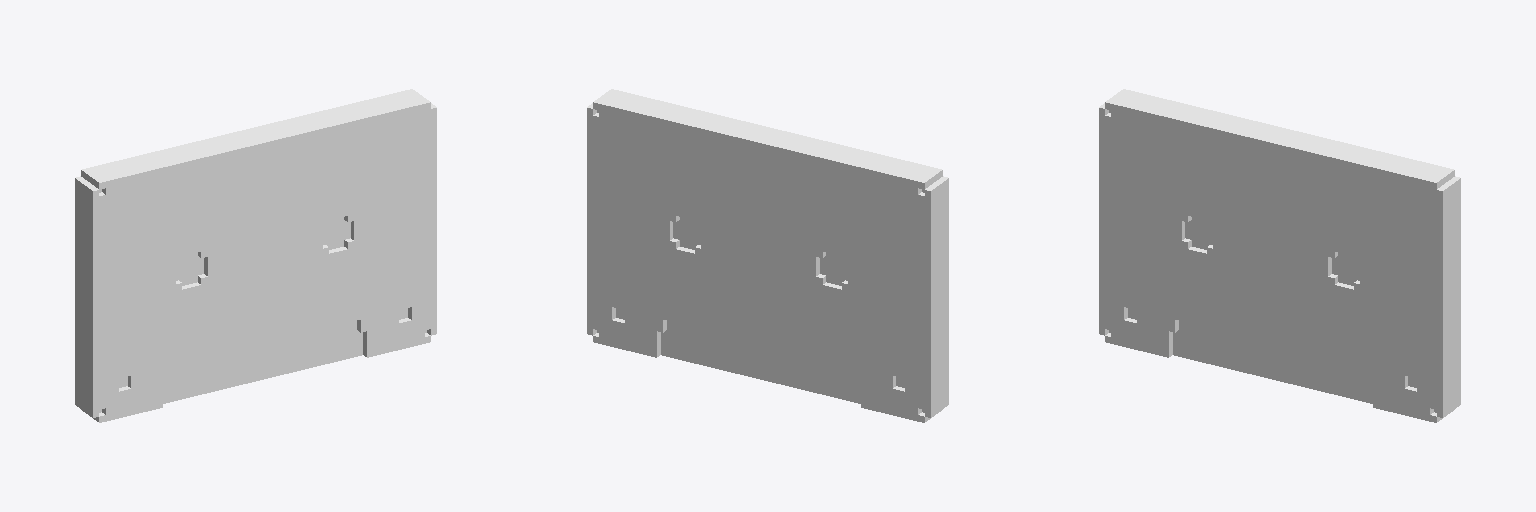
The model's file is audio.obj.
3 renders of one model, left to right at view 1: azimuth 30°, elevation 25°; view 2: azimuth 150°, elevation 25°; view 3: azimuth 330°, elevation 25°, orthographic.
Visible parts, largest first — view 1: object 1; view 2: object 1; view 3: object 1.
Boxes of the visible parts, x1,y1,x2,y2 form: object 1: [75, 89, 436, 422]; object 1: [587, 89, 948, 422]; object 1: [1099, 89, 1460, 422].
Bounding box in the file's own units: 5.4 × 3.6 × 0.5.